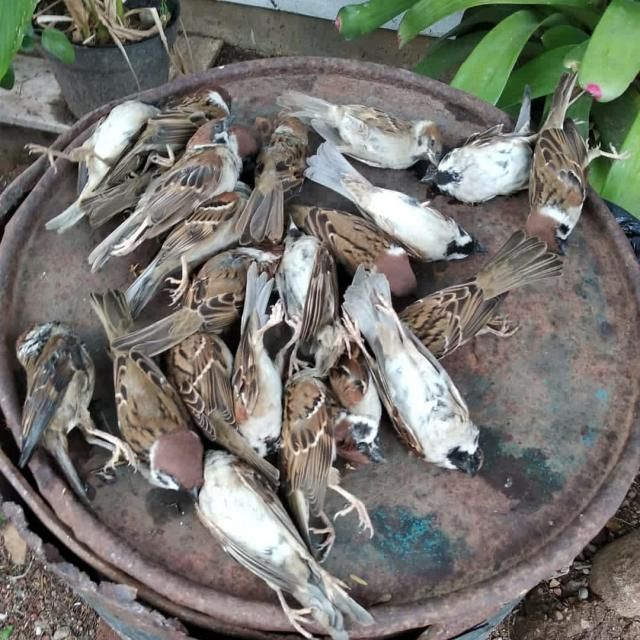Bangkai Burung: (185, 446, 373, 640), (336, 268, 500, 468), (42, 93, 242, 230), (273, 363, 409, 549), (432, 234, 588, 378), (309, 148, 494, 265), (90, 314, 213, 489), (15, 306, 114, 497), (165, 286, 256, 466), (222, 272, 302, 473), (528, 57, 598, 279), (419, 100, 555, 209), (282, 78, 444, 168), (248, 85, 313, 248)
